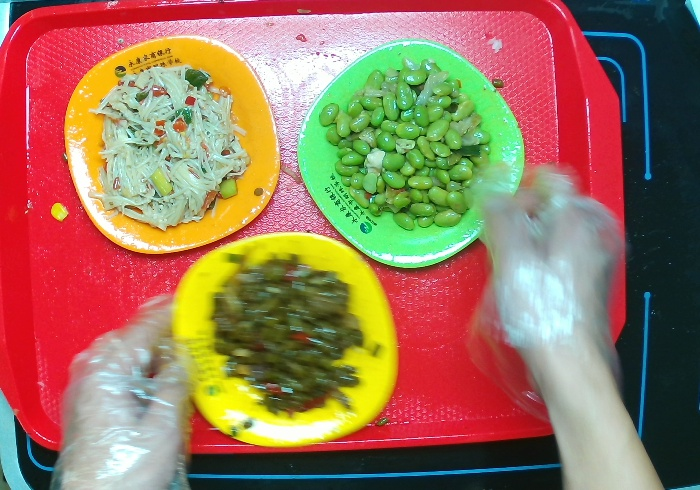YKMZ-Huang_Se_Fang_Die: (169, 231, 400, 451)
YKMZ-Ju_Se_Fang_Die: (66, 35, 281, 255)
YKMZ-Lv_Se_Fang_Die: (293, 38, 527, 271)
